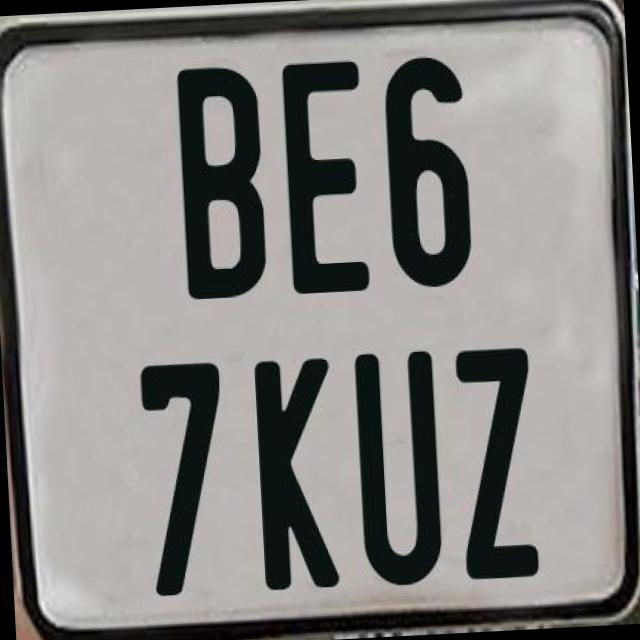6: (380, 55, 472, 291)
7: (136, 358, 228, 598)
B: (176, 66, 274, 302)
E: (278, 55, 376, 294)
K: (252, 358, 344, 597)
U: (354, 348, 444, 590)
Z: (452, 342, 542, 586)
